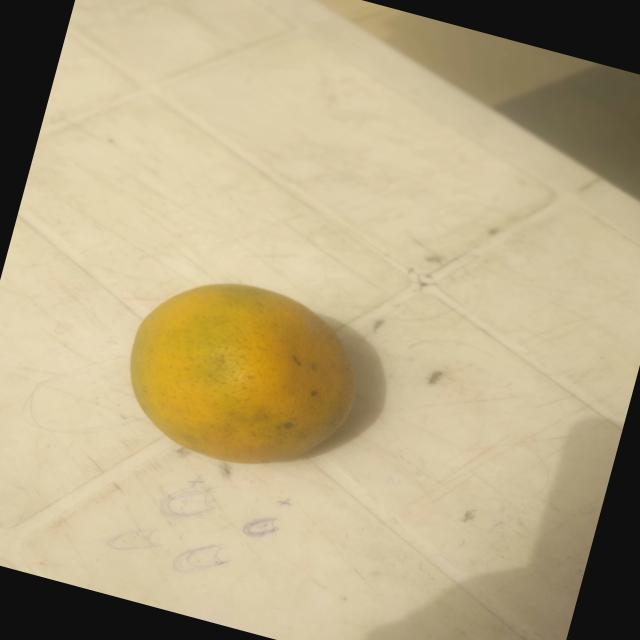Ripe orange: (84, 233, 386, 514)
